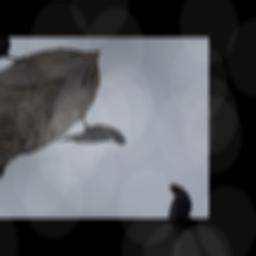Crow: (53, 107, 131, 172)
